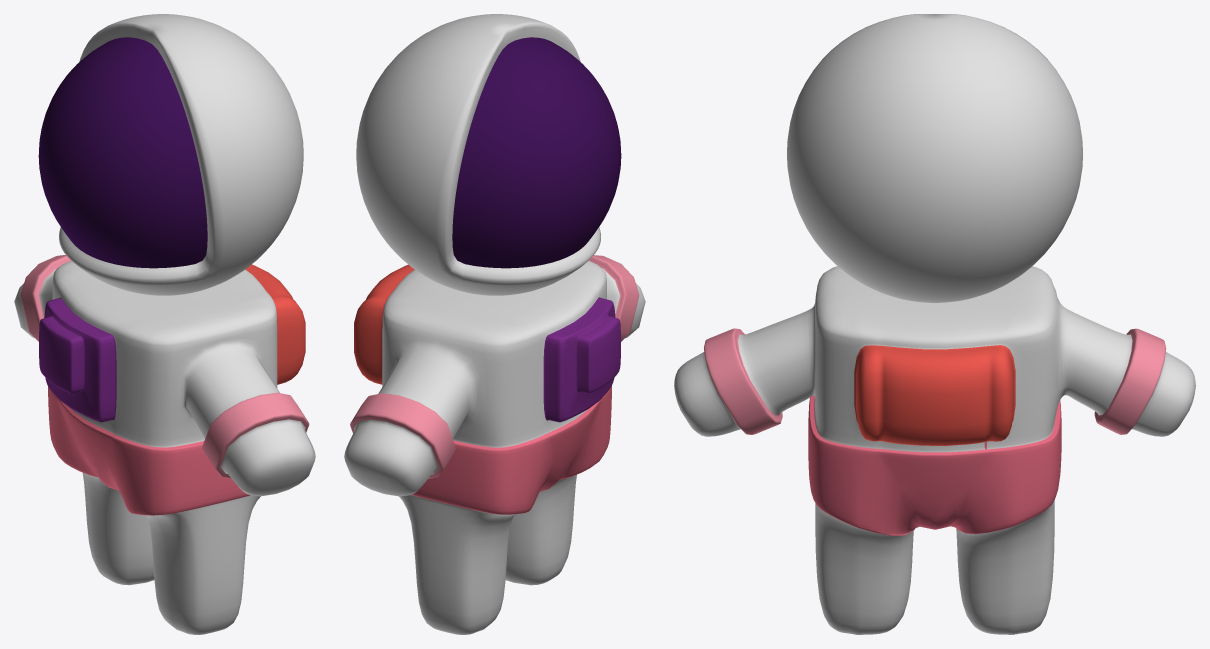
File: astronaut.fbx
3 views of the same model, side by side, from view 1: azimuth 30°, elevation 25°; view 2: azimuth 150°, elevation 25°; view 3: azimuth 270°, elevation 25° (orthographic). The views are drawn at different scales.
Parts seen in each view (by area): view 1: Cube, Sphere.008, Sphere.007, Cube.004, Cube.003, Cube.002, Cube.001; view 2: Cube, Sphere.008, Sphere.007, Cube.004, Cube.003, Cube.002, Cube.001; view 3: Sphere.007, Cube, Cube.004, Cube.001, Cube.002.
Part boxes in pixels (x1,y1,x2,y2): Cube: (14,260,315,634); Sphere.008: (38,37,207,268); Sphere.007: (59,14,303,295); Cube.004: (48,386,249,515); Cube.003: (39,297,116,422); Cube.002: (20,255,309,478); Cube.001: (245,264,305,384); Cube: (344,260,645,634); Sphere.008: (452,37,621,268); Sphere.007: (356,14,600,295); Cube.004: (411,386,611,514); Cube.003: (543,297,620,422); Cube.002: (350,255,639,478); Cube.001: (354,264,414,384); Sphere.007: (787,14,1082,302); Cube: (674,266,1195,634); Cube.004: (808,395,1061,535); Cube.001: (854,345,1015,445); Cube.002: (704,328,1166,434).
Bounding box in the file's own units: 162 × 379 × 295.
